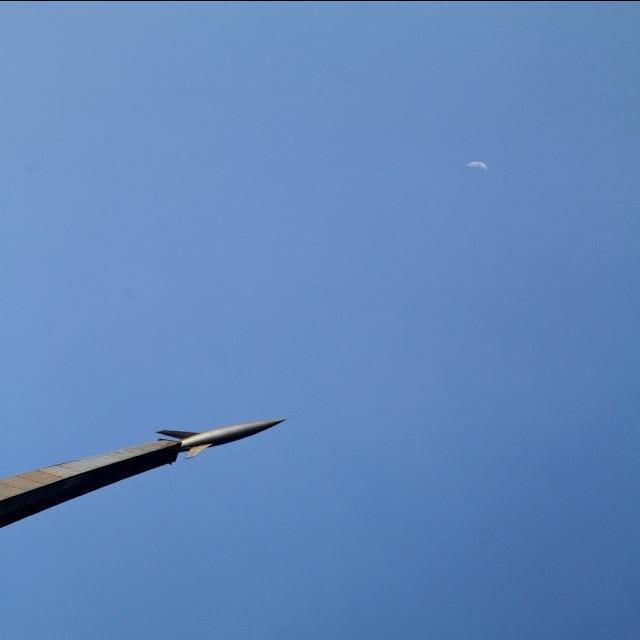missile: (159, 417, 304, 460)
